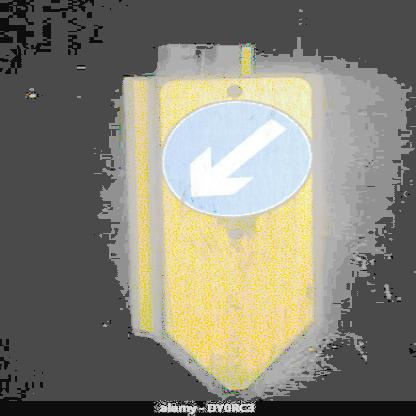Keep left: (162, 94, 312, 221)
